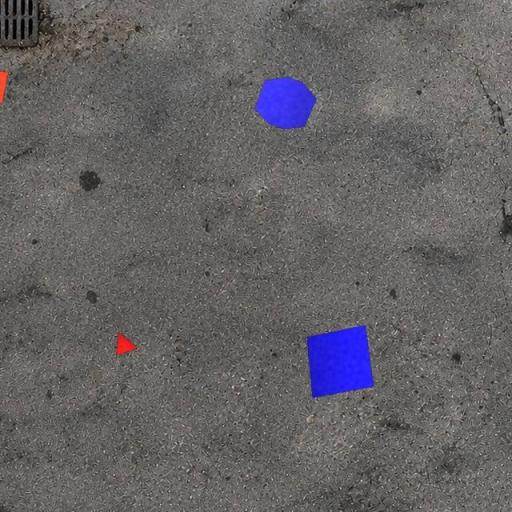BLUE_SQUARE: (306, 325, 374, 399)
